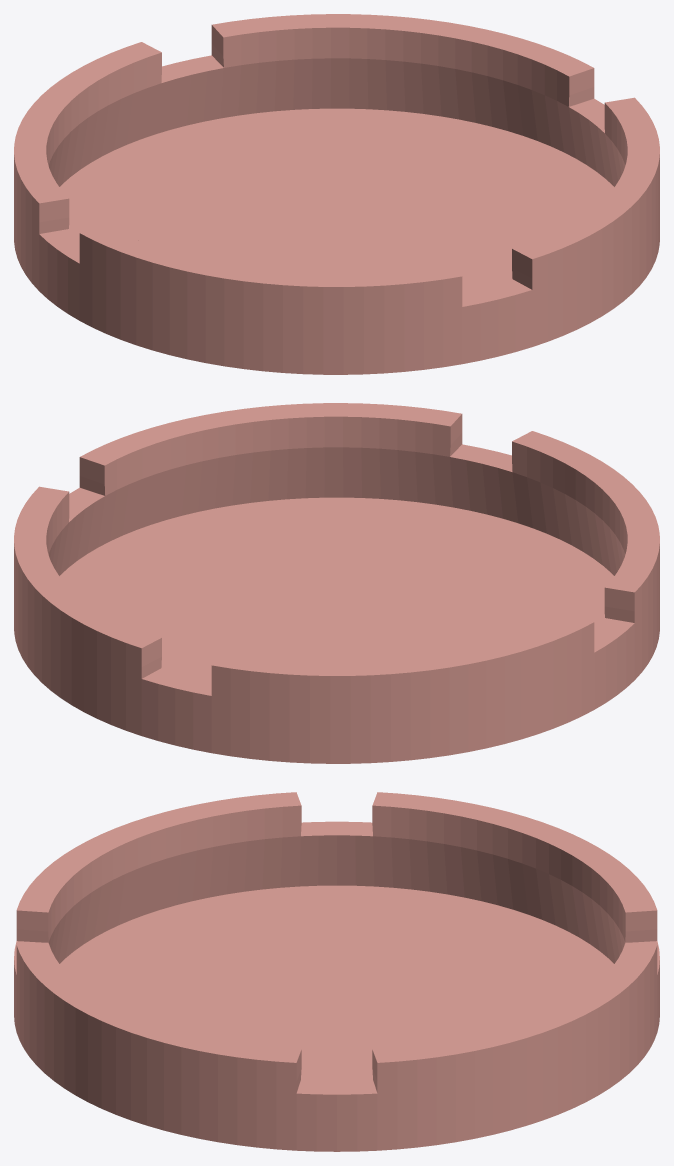
File: posacenere.fbx
3 views of the same model, one above another, from view 1: azimuth 30°, elevation 25°; view 2: azimuth 150°, elevation 25°; view 3: azimuth 270°, elevation 25° (orthographic).
Visible parts, largest first — view 1: posacenere; view 2: posacenere; view 3: posacenere.
Boxes of the visible parts, x1,y1,x2,y2 form: posacenere: [14, 14, 659, 374]; posacenere: [14, 403, 659, 763]; posacenere: [14, 792, 659, 1151].
Bounding box in the file's own units: 10 × 1.5 × 10.
Materials: 1 (1 with a texture image).
